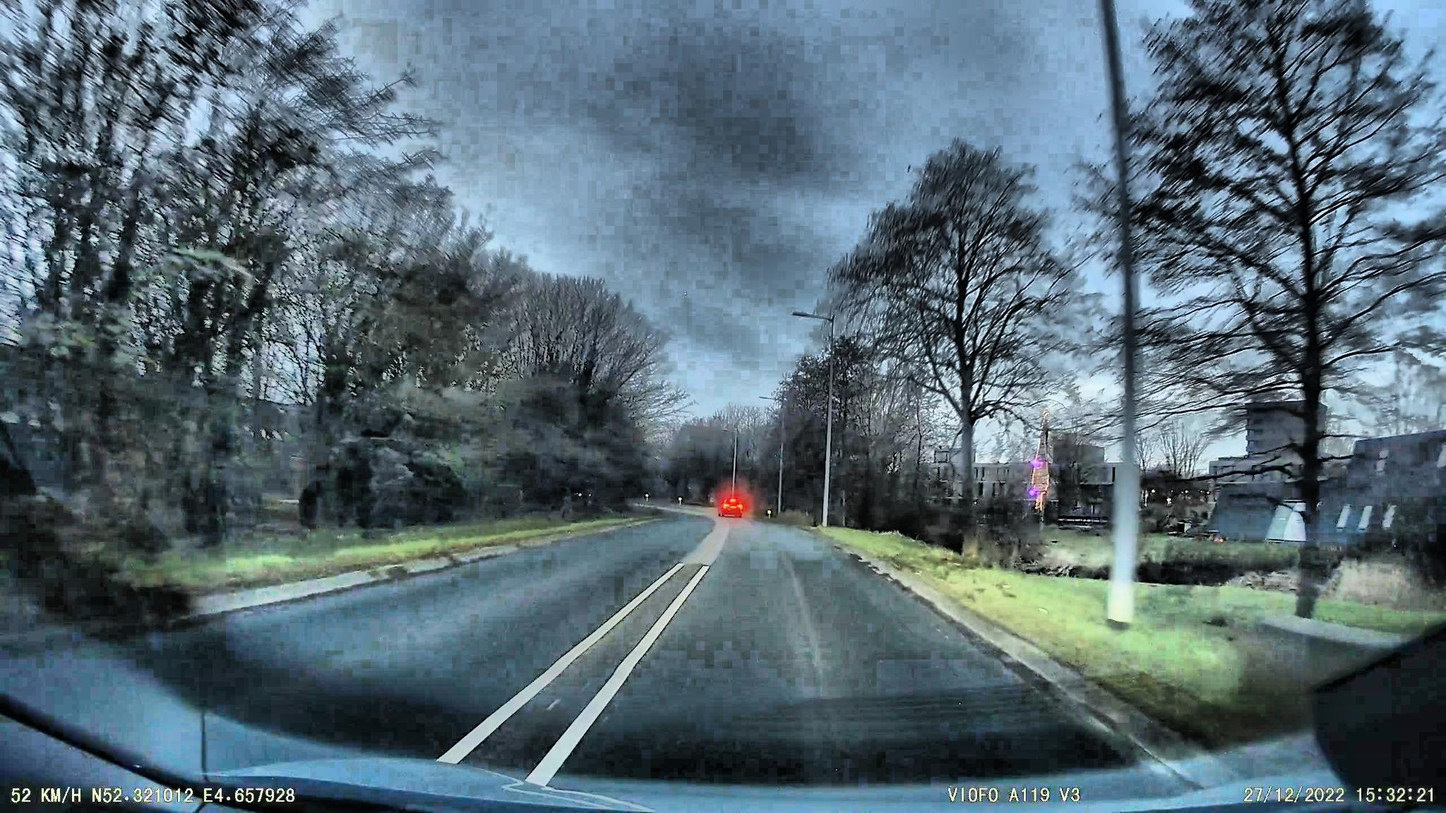Roads: (0, 516, 1186, 813)
